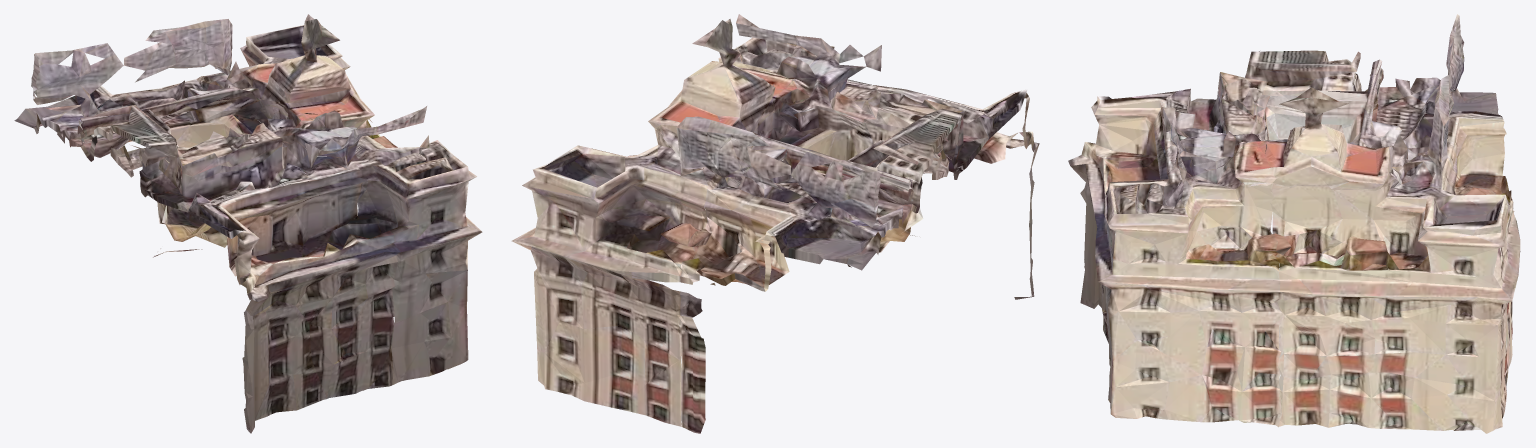
The picture shows the model from 3 angles, left to right: view 1: azimuth 30°, elevation 25°; view 2: azimuth 150°, elevation 25°; view 3: azimuth 270°, elevation 25°; orthographic projection. The views are drawn at different scales.
Visible parts, largest first — view 1: Mesh_0; view 2: Mesh_0; view 3: Mesh_0.
Part boxes in pixels (x1,y1,x2,y2): Mesh_0: [14, 14, 482, 433]; Mesh_0: [511, 14, 1039, 433]; Mesh_0: [1068, 14, 1520, 433].
Bounding box in the file's own units: 28.88 × 25.76 × 34.58.
1 material, 1 textured.
